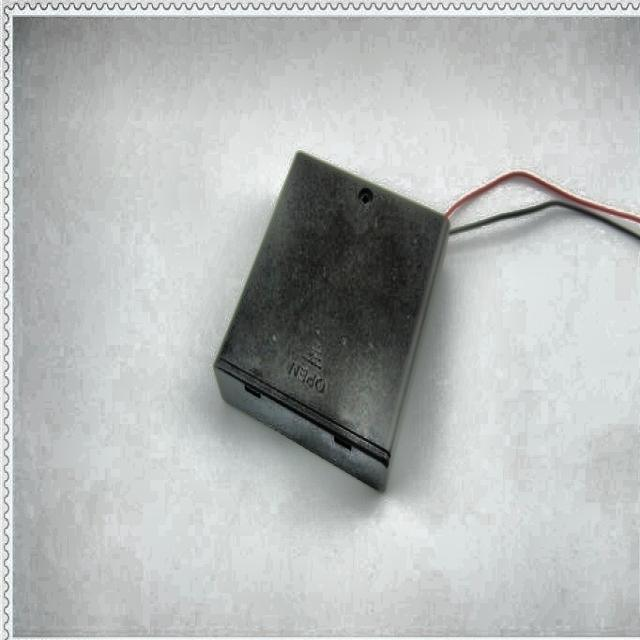Non-Valuable Waste - Batteries: (216, 153, 449, 489)
